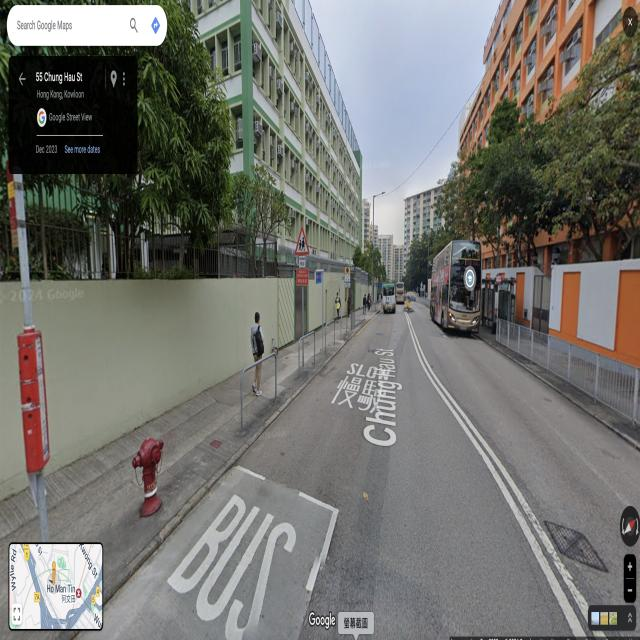Direction-Sign: (316, 272, 322, 283)
Order-Sign: (345, 266, 350, 282)
Warning-Sign: (295, 226, 309, 255), (296, 268, 308, 285)
